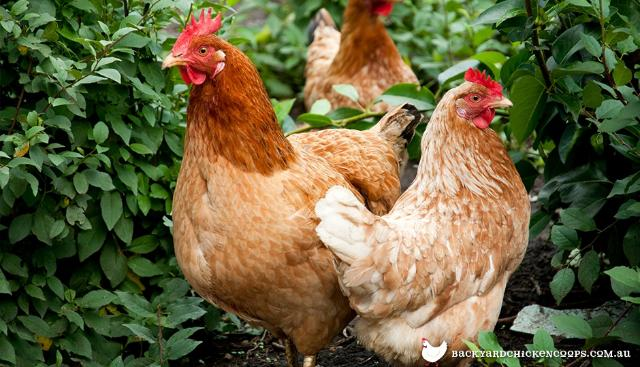Chicken: (162, 8, 423, 365), (313, 68, 531, 363), (306, 1, 422, 118)
